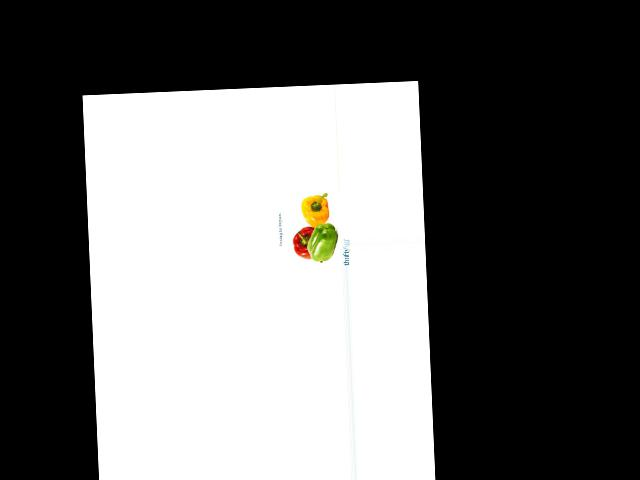bell_pepper: (307, 219, 342, 264)
